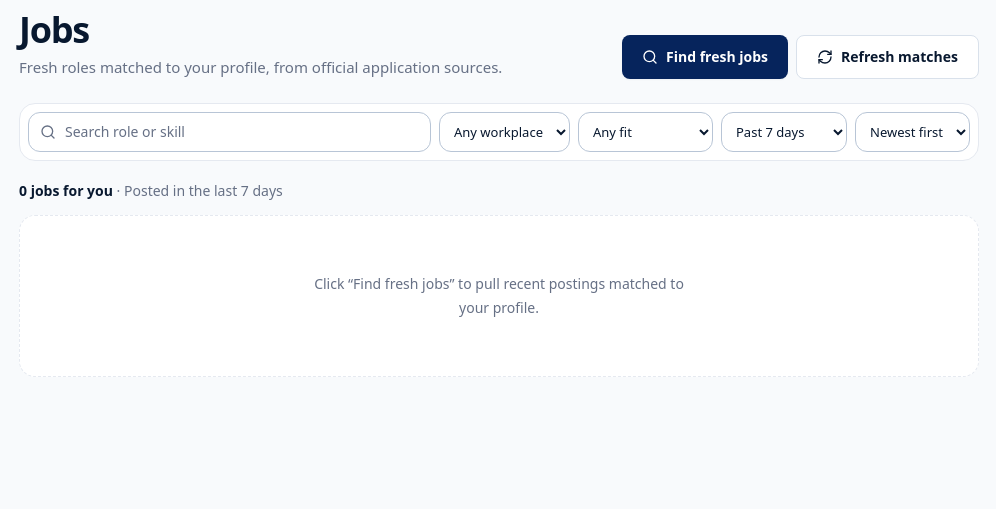
JobDiscovery › hides the apply link when the application URL is missing or a placeholder
The image size is (996, 509).
Click the button "Find fresh jobs".
click(705, 56)  # box [622,34,788,78]
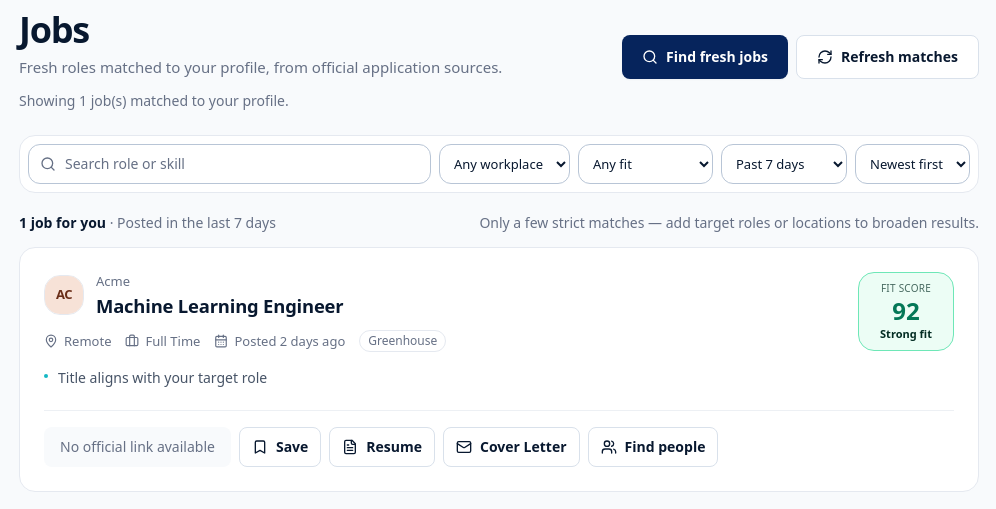
Expected: the text "No official link available" is shown, [44,427,231,467]
